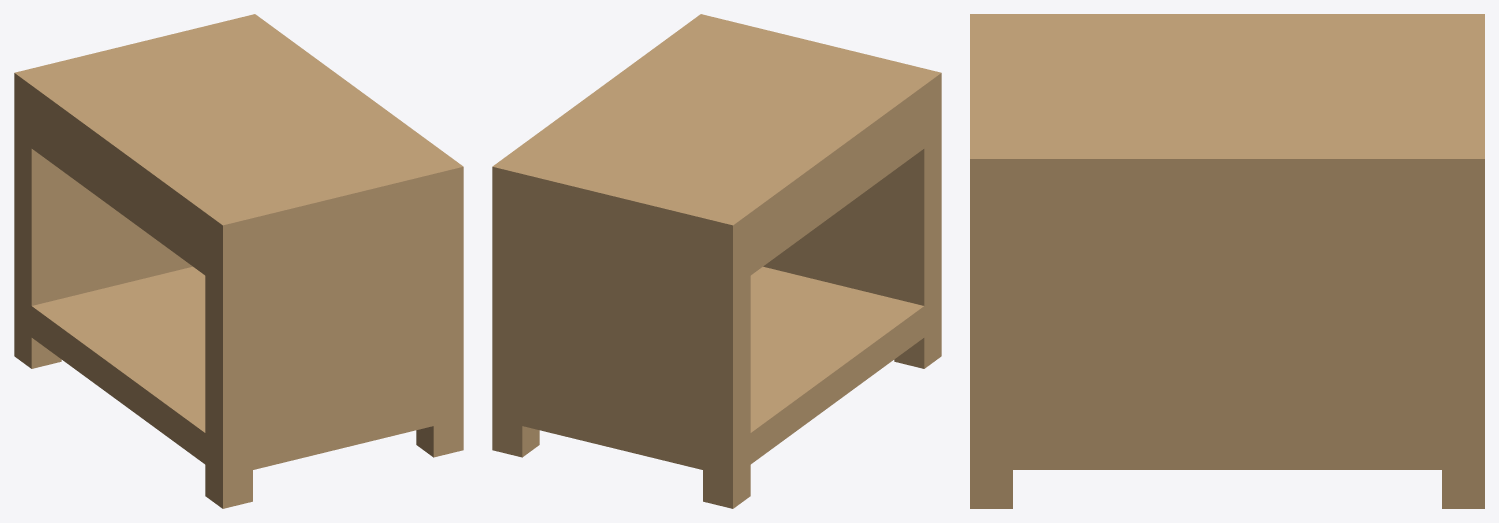
File: RegisterTable.obj
The picture shows the model from 3 angles, left to right: view 1: azimuth 30°, elevation 25°; view 2: azimuth 150°, elevation 25°; view 3: azimuth 270°, elevation 25°; orthographic projection. The views are drawn at different scales.
Bounding box in the file's own units: 0.8 × 0.9 × 1.2.
